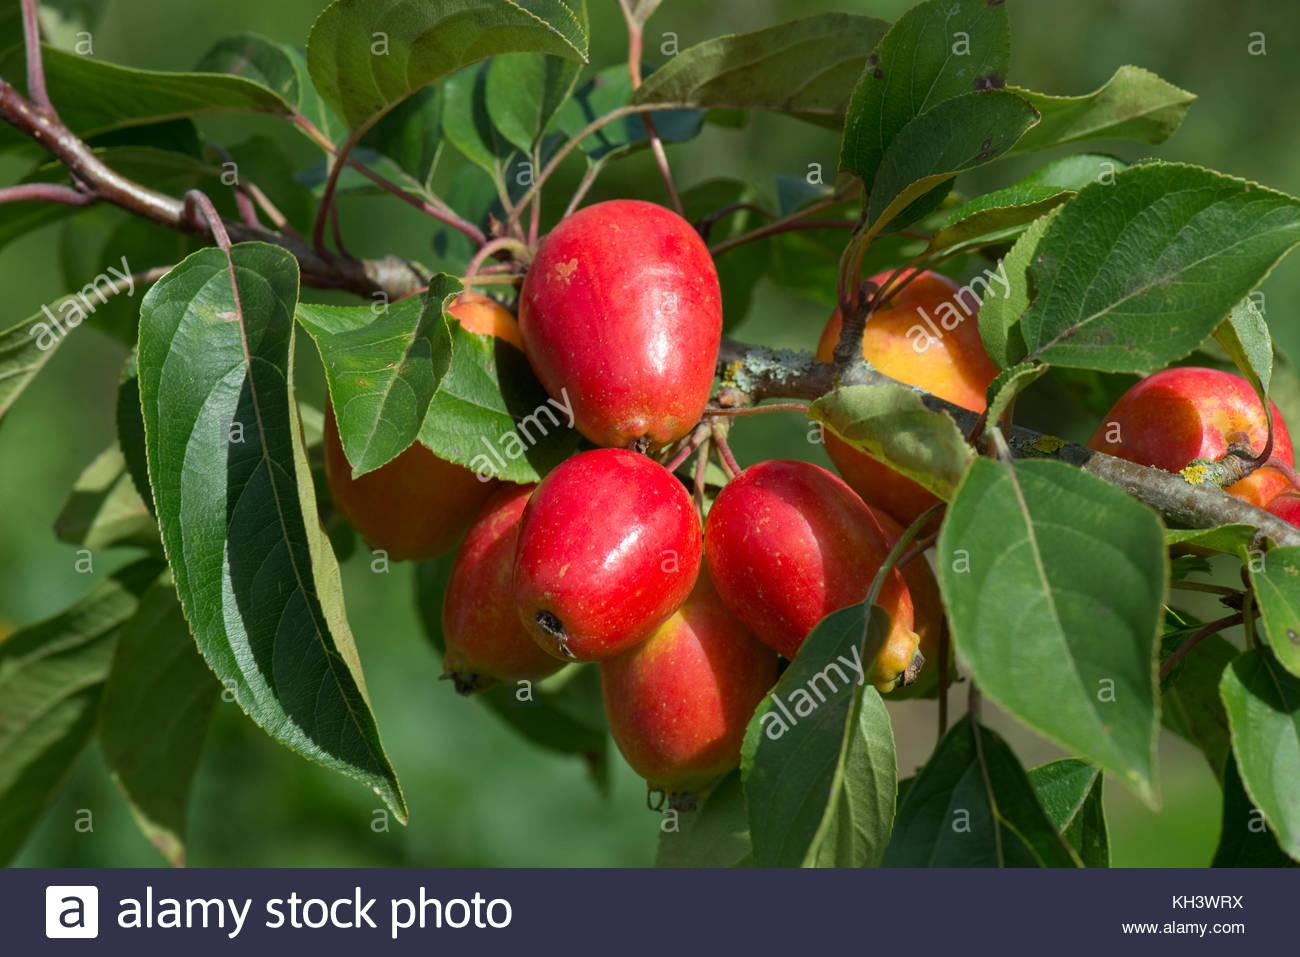Apple leaf: (119, 238, 440, 848), (898, 426, 1213, 840), (1001, 102, 1300, 391), (841, 1, 1031, 316), (727, 580, 911, 865), (333, 272, 526, 502)
